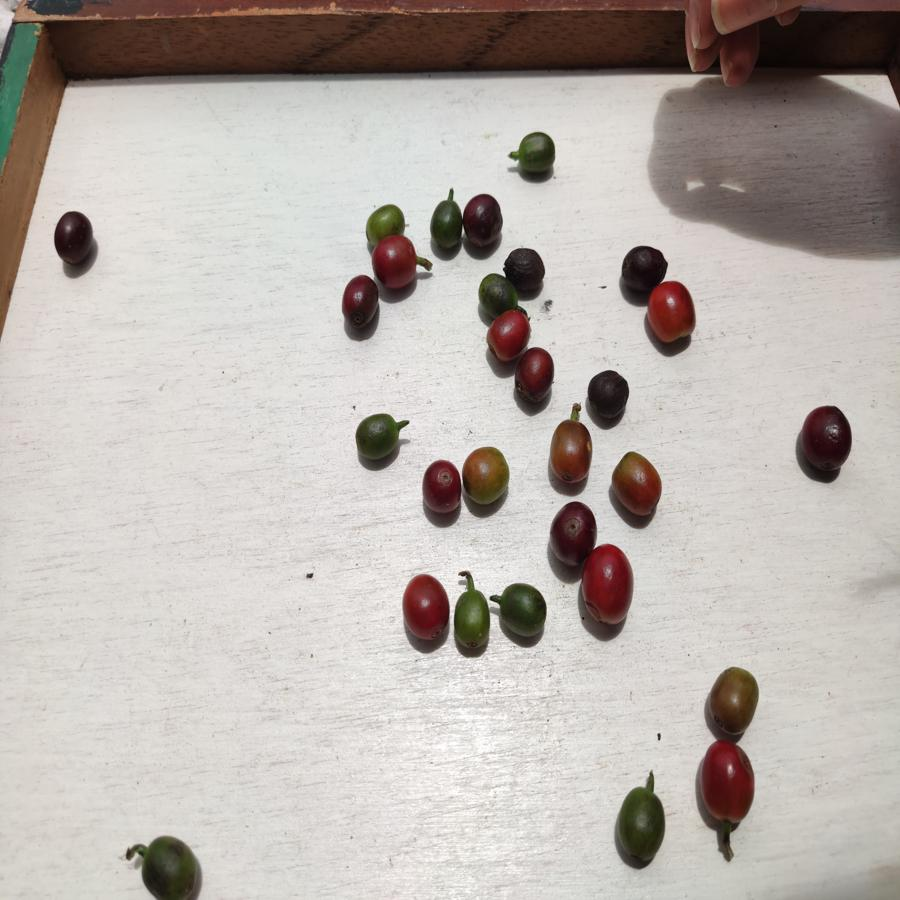Inmaduro: (613, 786, 667, 865), (138, 837, 202, 898), (494, 582, 548, 637), (452, 588, 491, 656), (353, 412, 403, 464), (515, 129, 557, 180), (427, 196, 461, 254), (476, 271, 510, 311)
Maduro: (698, 741, 755, 827), (582, 543, 636, 628), (400, 573, 452, 640), (647, 282, 700, 345), (372, 236, 422, 288), (419, 460, 460, 515), (485, 309, 528, 359)
Pinton: (704, 665, 760, 738), (611, 450, 659, 518), (462, 445, 510, 507), (548, 420, 593, 486), (363, 203, 410, 238)
Sobremaduro: (800, 404, 852, 475), (548, 501, 594, 563), (53, 210, 96, 267), (516, 348, 558, 402), (341, 275, 382, 330), (587, 369, 630, 420), (463, 192, 505, 244), (620, 245, 667, 287), (510, 248, 548, 292)
